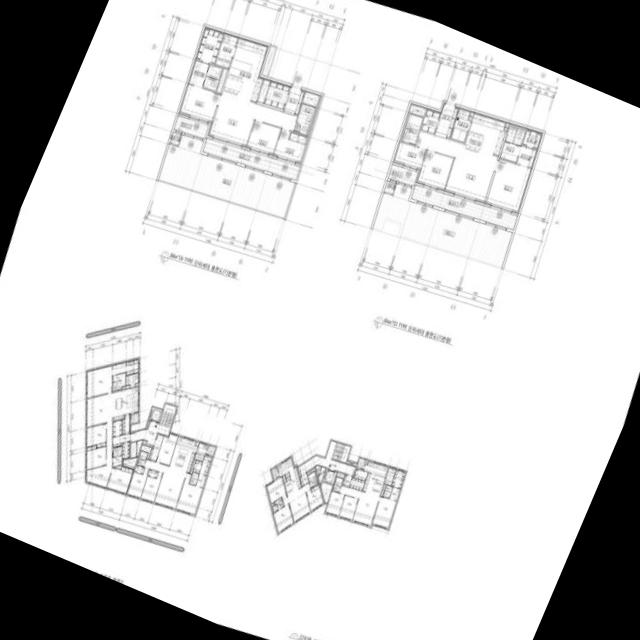background: (0, 0, 640, 640)
space_balconi: (173, 115, 299, 179), (410, 184, 517, 229), (388, 164, 417, 185), (271, 465, 279, 480), (205, 444, 215, 455), (356, 457, 365, 469), (130, 412, 138, 423)
space_bedroom: (485, 158, 531, 213), (178, 83, 219, 122), (415, 150, 452, 190), (273, 128, 308, 163), (246, 120, 280, 154), (175, 472, 202, 514), (392, 141, 425, 169), (86, 364, 111, 397), (372, 496, 396, 528), (106, 465, 133, 493), (155, 432, 177, 464), (140, 471, 162, 502), (127, 467, 148, 497), (272, 503, 293, 532), (265, 476, 286, 503), (338, 494, 358, 520), (305, 483, 323, 511), (85, 444, 105, 469), (85, 423, 105, 447), (325, 490, 344, 515), (134, 464, 144, 473), (147, 469, 157, 477)
space_dressroom: (194, 26, 223, 64), (516, 145, 537, 167), (522, 128, 542, 149), (391, 468, 405, 488), (199, 455, 211, 474), (125, 358, 138, 375), (192, 459, 201, 472)
space_elevator: (322, 468, 336, 483), (148, 407, 162, 422)
space_elevator_hall: (130, 392, 179, 445), (297, 455, 355, 475)
space_front: (434, 102, 458, 138), (283, 85, 304, 114), (420, 108, 440, 133), (148, 433, 163, 460), (112, 433, 129, 446), (113, 419, 121, 436), (341, 474, 351, 487), (122, 441, 129, 458), (299, 472, 308, 485)
space_kitchen: (222, 36, 268, 101), (463, 112, 505, 155), (169, 435, 197, 472), (276, 456, 301, 495), (362, 460, 388, 496), (111, 386, 138, 420)
space_living_room: (415, 130, 497, 202), (207, 92, 297, 146), (85, 392, 112, 487), (143, 459, 186, 508), (339, 484, 379, 525), (282, 482, 310, 522)
space_multipurpose_space: (214, 32, 237, 67), (450, 107, 470, 142)
space_other: (263, 80, 289, 108), (261, 45, 275, 75), (257, 78, 269, 102), (302, 90, 319, 105), (194, 441, 207, 460), (216, 68, 226, 92), (320, 482, 332, 502), (408, 103, 425, 115), (384, 466, 395, 484), (349, 477, 364, 490), (125, 372, 138, 387), (353, 468, 367, 480), (121, 413, 129, 434), (140, 444, 151, 458), (123, 456, 137, 467), (318, 466, 325, 484), (136, 439, 142, 456), (130, 441, 136, 457), (190, 459, 195, 472), (306, 467, 315, 474), (380, 483, 385, 495), (346, 460, 356, 465), (315, 465, 320, 475), (336, 471, 344, 477), (468, 110, 473, 119), (504, 121, 509, 130), (121, 384, 129, 388), (145, 420, 149, 428), (114, 464, 121, 468), (194, 440, 199, 445), (282, 474, 285, 482), (142, 439, 146, 443), (135, 382, 138, 386), (365, 459, 368, 463), (270, 502, 273, 506)
space_outdoor_room: (383, 180, 395, 193), (169, 131, 180, 144)
space_staircase: (325, 440, 350, 462), (164, 404, 176, 427)
space_toilet: (187, 59, 222, 90), (401, 113, 422, 144), (294, 103, 315, 134), (499, 141, 520, 161), (382, 484, 400, 500), (112, 372, 125, 390), (504, 125, 517, 142), (512, 128, 525, 145), (136, 450, 147, 466), (307, 470, 317, 487), (112, 361, 125, 374), (272, 497, 283, 512), (332, 476, 342, 492), (195, 473, 205, 486), (112, 455, 121, 466), (190, 471, 198, 479), (112, 446, 117, 456), (189, 477, 196, 484), (117, 445, 121, 455)
